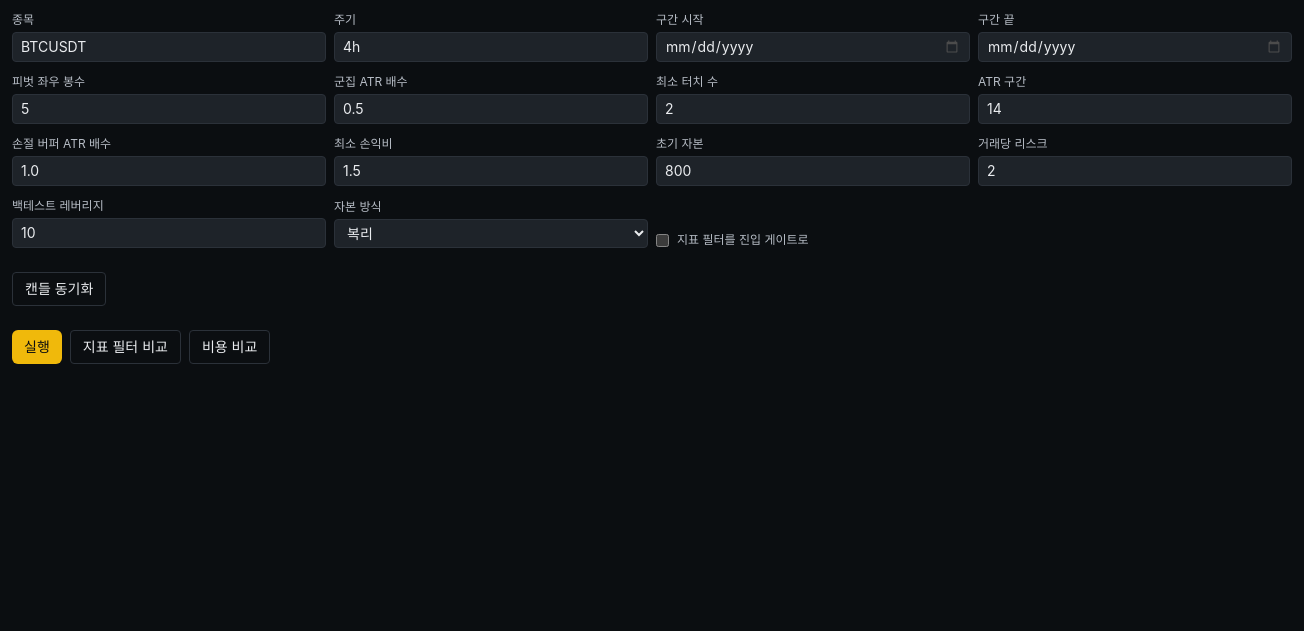
백테스트 › 비교는 기준과 변경을 나란히 놓는다
The image size is (1304, 631).
What coordinates should you click on to do the following:
click the button "지표 필터 비교"
I would click on:
 (125, 347)
Its box is [70,330,181,364].
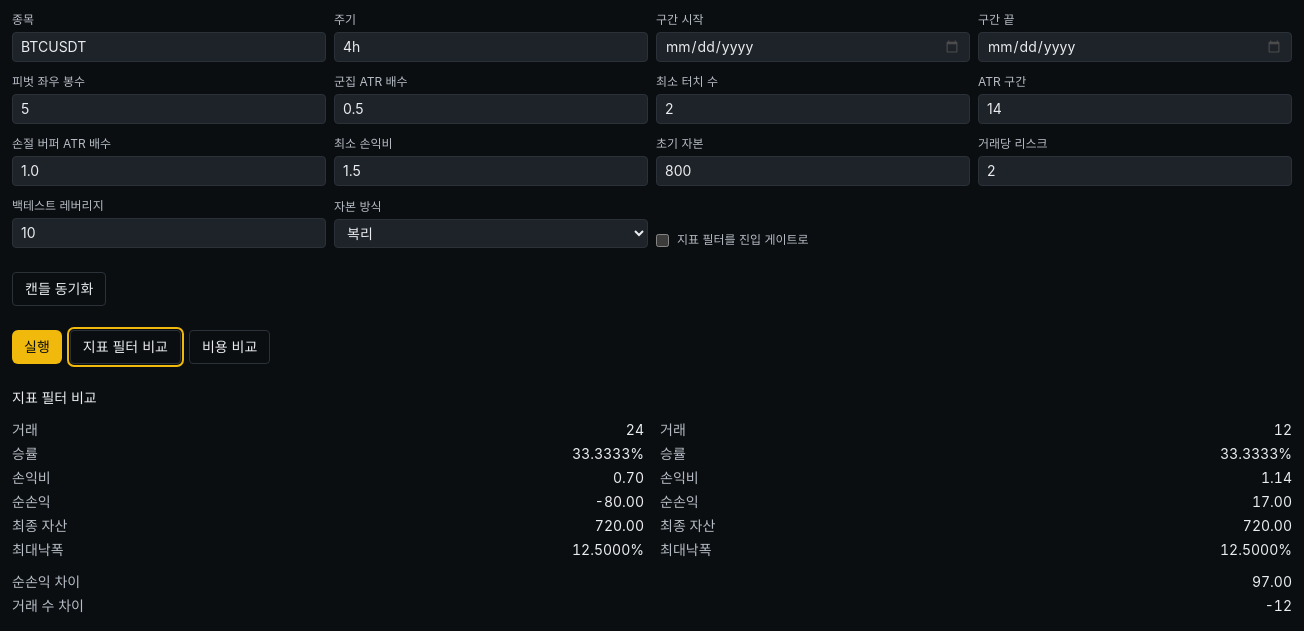
Result: the element "지표 필터 비교" shows "97.00" at [1252,573,1292,590]
Result: the element "지표 필터 비교" shows "-12" at [1265,597,1292,614]
Result: the element named "기준" is shown at [12,420,644,560]
